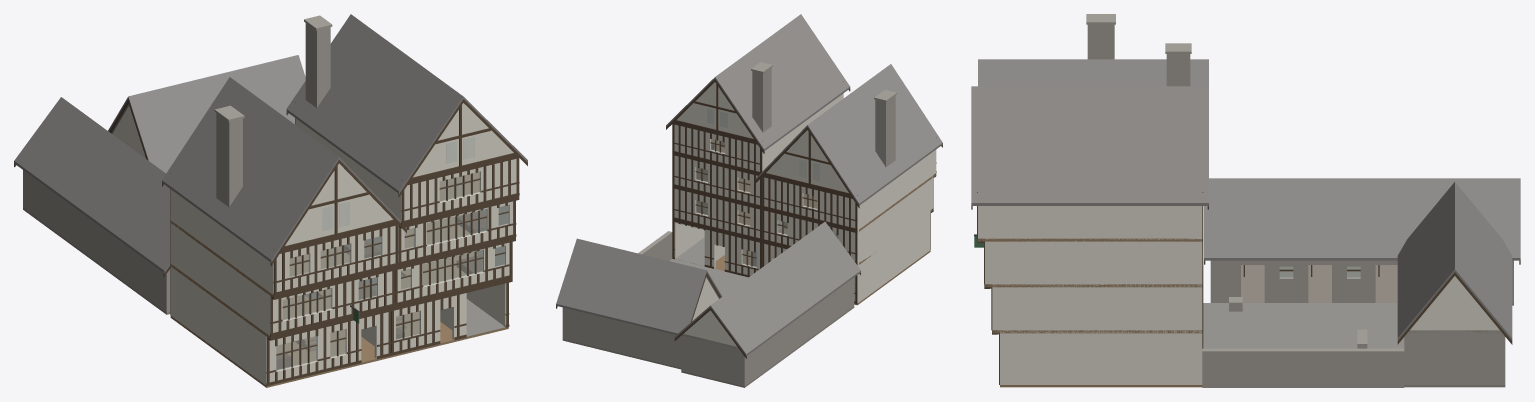
File: greene-lattis.glb
The picture shows the model from 3 angles, left to right: view 1: azimuth 30°, elevation 25°; view 2: azimuth 150°, elevation 25°; view 3: azimuth 270°, elevation 25°; orthographic projection. The views are drawn at different scales.
Parts seen in each view (by area): view 1: cobbles; view 2: cobbles; view 3: cobbles.
Part boxes in pixels (bbox=[...]): cobbles: bbox=[14, 14, 527, 387]; cobbles: bbox=[556, 14, 942, 387]; cobbles: bbox=[971, 14, 1520, 387].
Bounding box in the file's own units: 18.3 × 18.7 × 32.6.
